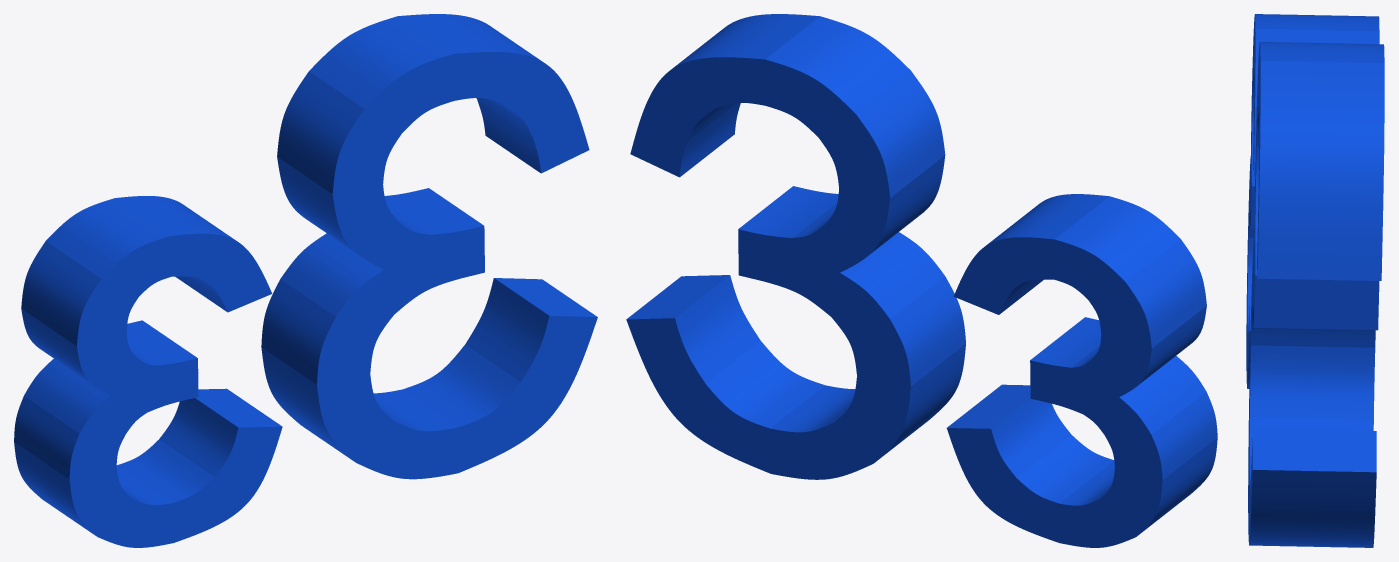
3 views of the same model, side by side, from view 1: azimuth 30°, elevation 25°; view 2: azimuth 150°, elevation 25°; view 3: azimuth 270°, elevation 25° (orthographic). The views are drawn at different scales.
Parts seen in each view (by area): view 1: Mesh_0.010; view 2: Mesh_0.010; view 3: Mesh_0.010.
Boxes of the visible parts, x1=… form: Mesh_0.010: x1=14, y1=14, x2=597, y2=547; Mesh_0.010: x1=626, y1=14, x2=1217, y2=547; Mesh_0.010: x1=1246, y1=14, x2=1384, y2=547.
Bounding box in the file's own units: 9.9 × 7.44 × 1.99.
